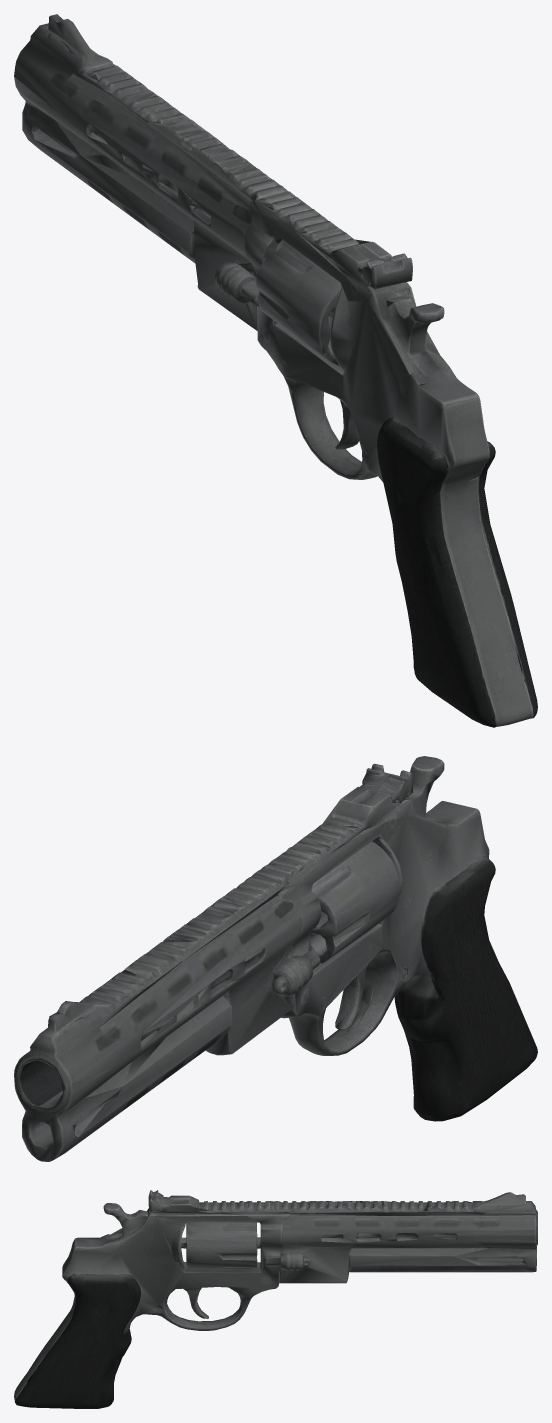
The model's file is pi_basalt.glb.
3 renders of one model, top to bottom at view 1: azimuth 30°, elevation 25°; view 2: azimuth 150°, elevation 25°; view 3: azimuth 270°, elevation 25°, orthographic. The views are drawn at different scales.
Visible parts, largest first — view 1: pi_basalt; view 2: pi_basalt; view 3: pi_basalt.
Boxes of the visible parts, left/top/right/bottom form: pi_basalt: left=14, top=14, right=537, bottom=727; pi_basalt: left=14, top=756, right=537, bottom=1161; pi_basalt: left=14, top=1190, right=537, bottom=1408.
Size of the model in its own units: 0.0273 by 0.12 by 0.27.
Materials: 1 (1 with a texture image).
